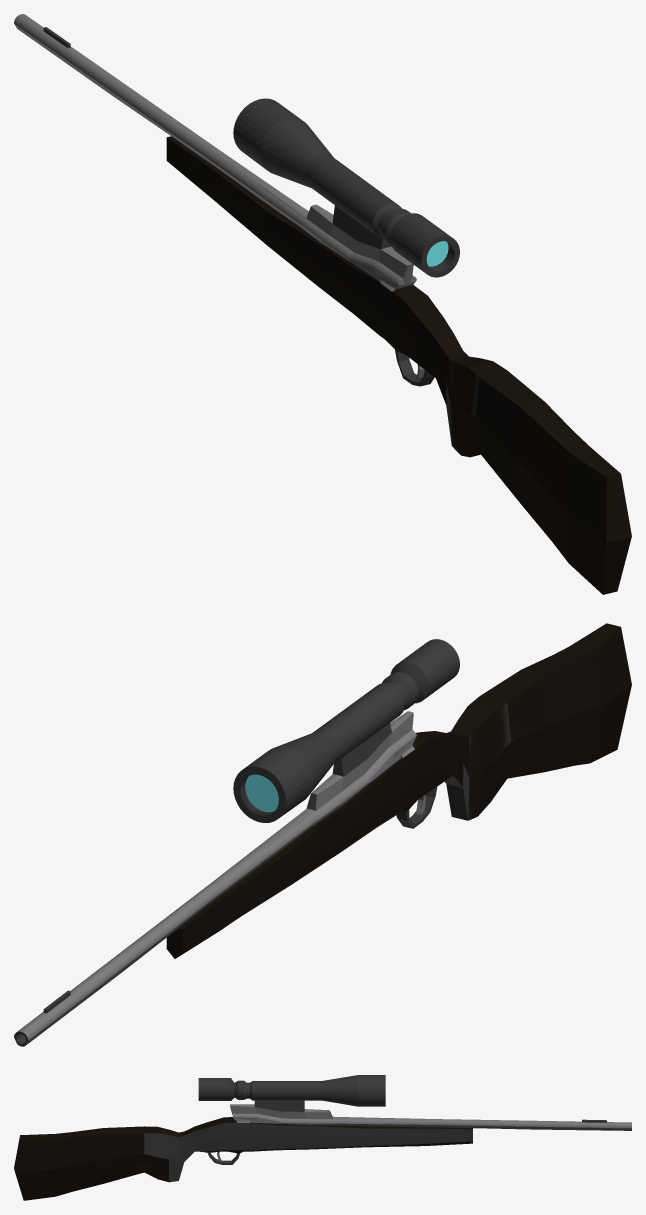
The model's file is sniper.obj.
3 renders of one model, top to bottom at view 1: azimuth 30°, elevation 25°; view 2: azimuth 150°, elevation 25°; view 3: azimuth 270°, elevation 25°, orthographic. The views are drawn at different scales.
Visible parts, largest first — view 1: Cube; view 2: Cube; view 3: Cube.
Part boxes in pixels (x1=…): Cube: x1=14, y1=14, x2=631, y2=594; Cube: x1=14, y1=623, x2=631, y2=1046; Cube: x1=14, y1=1075, x2=631, y2=1200.
Size of the model in its own units: 0.6975 by 3 by 13.73.
Materials: 1 (1 with a texture image).
